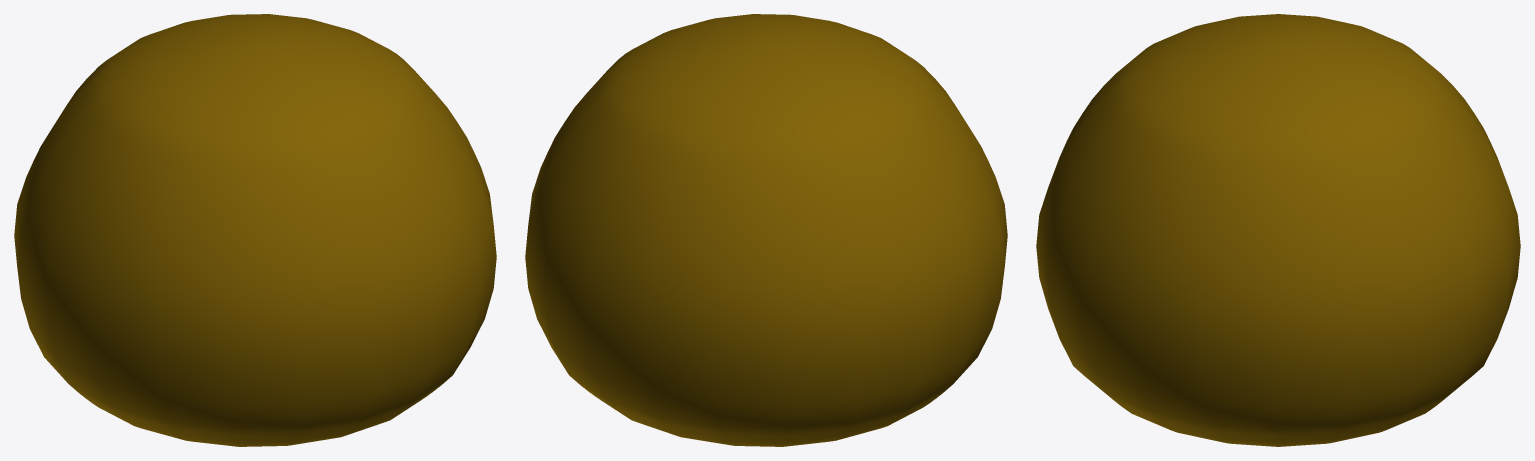
The model's file is manju.fbx.
3 views of the same model, side by side, from view 1: azimuth 30°, elevation 25°; view 2: azimuth 150°, elevation 25°; view 3: azimuth 270°, elevation 25° (orthographic).
Parts seen in each view (by area): view 1: pSphere1; view 2: pSphere1; view 3: pSphere1.
Boxes of the visible parts, x1=… form: pSphere1: x1=14, y1=14, x2=496, y2=446; pSphere1: x1=525, y1=14, x2=1007, y2=446; pSphere1: x1=1036, y1=14, x2=1520, y2=446.
Bounding box in the file's own units: 0.7564 × 0.6342 × 0.7564.
